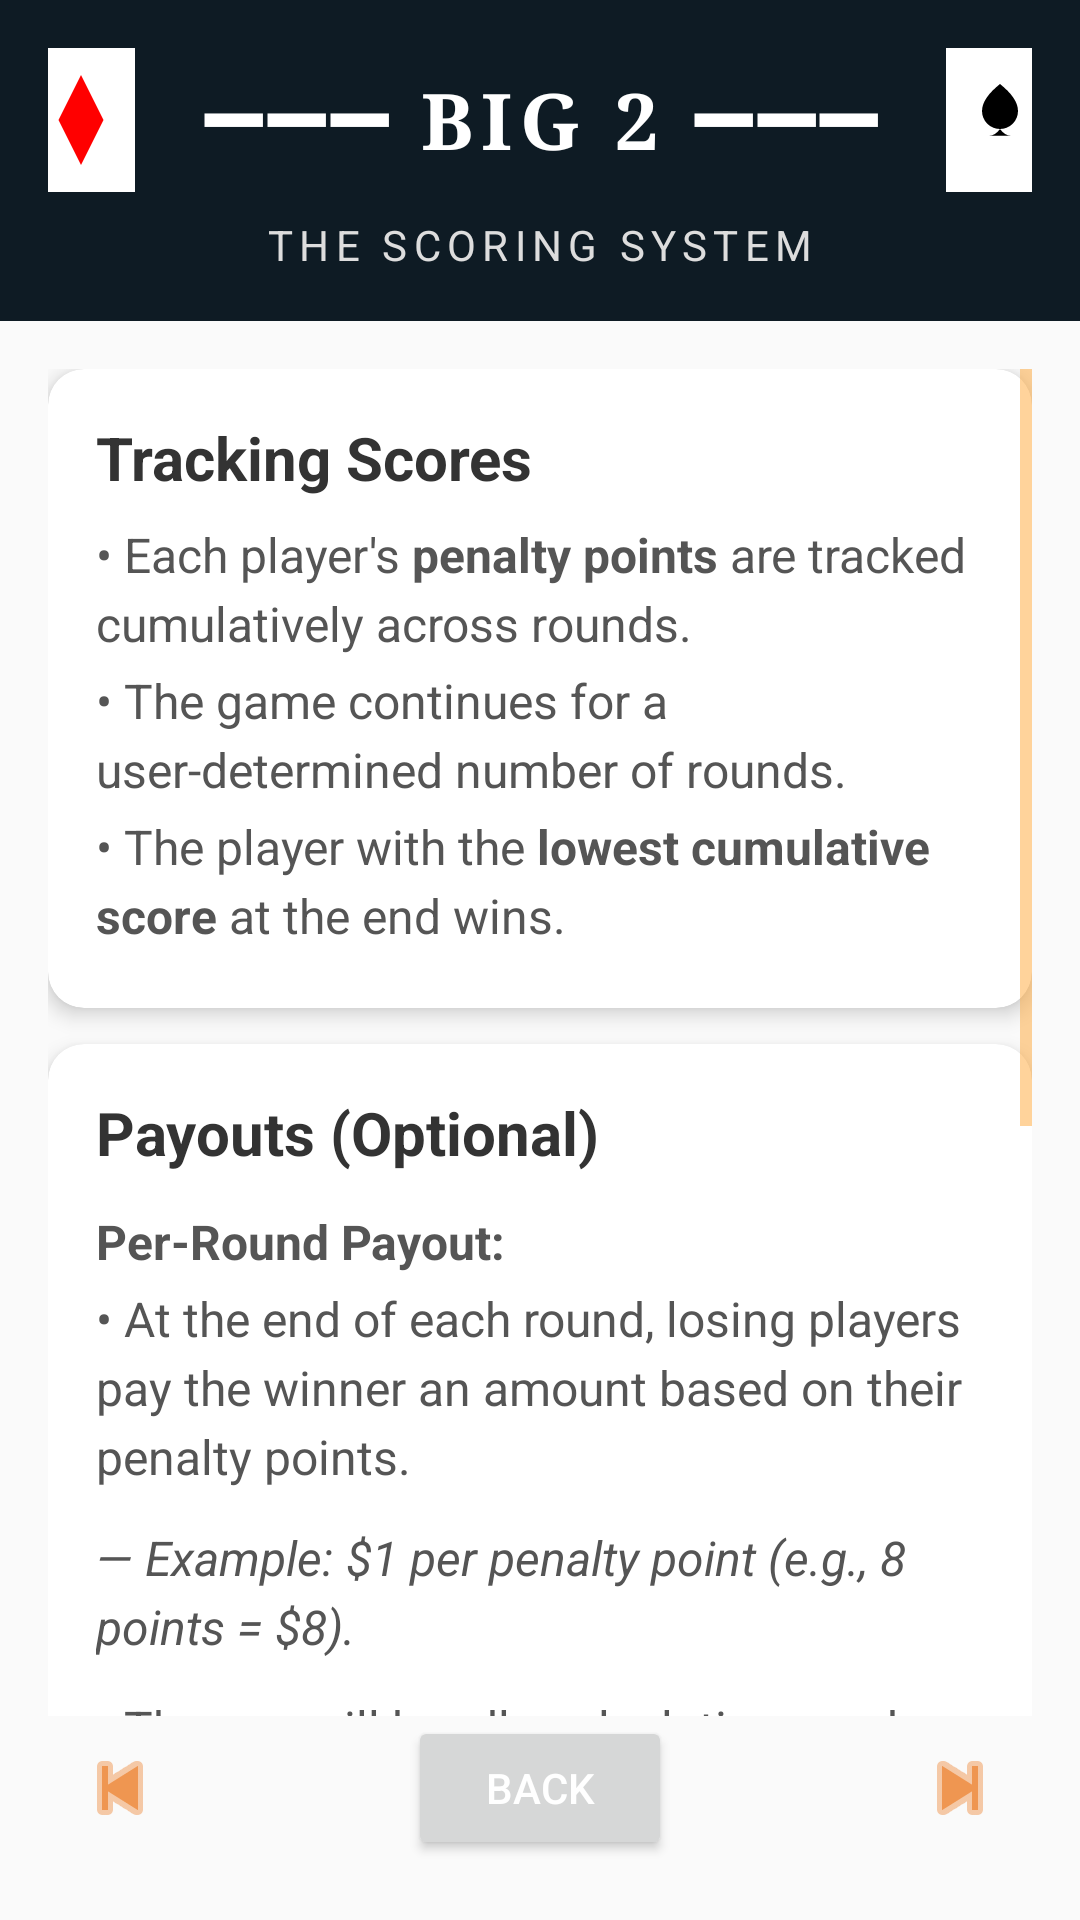

Named icons in this screenshot (1080 × 1920) and their centers, [x,y]:
Next: [960,1788]
Previous: [120,1788]
